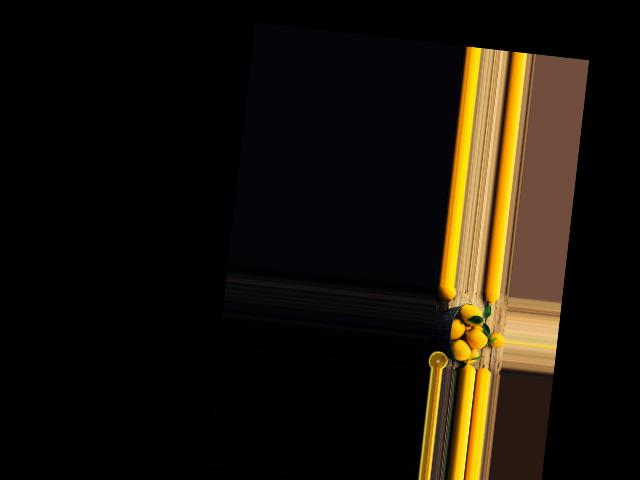lemon: (443, 335, 472, 362)
